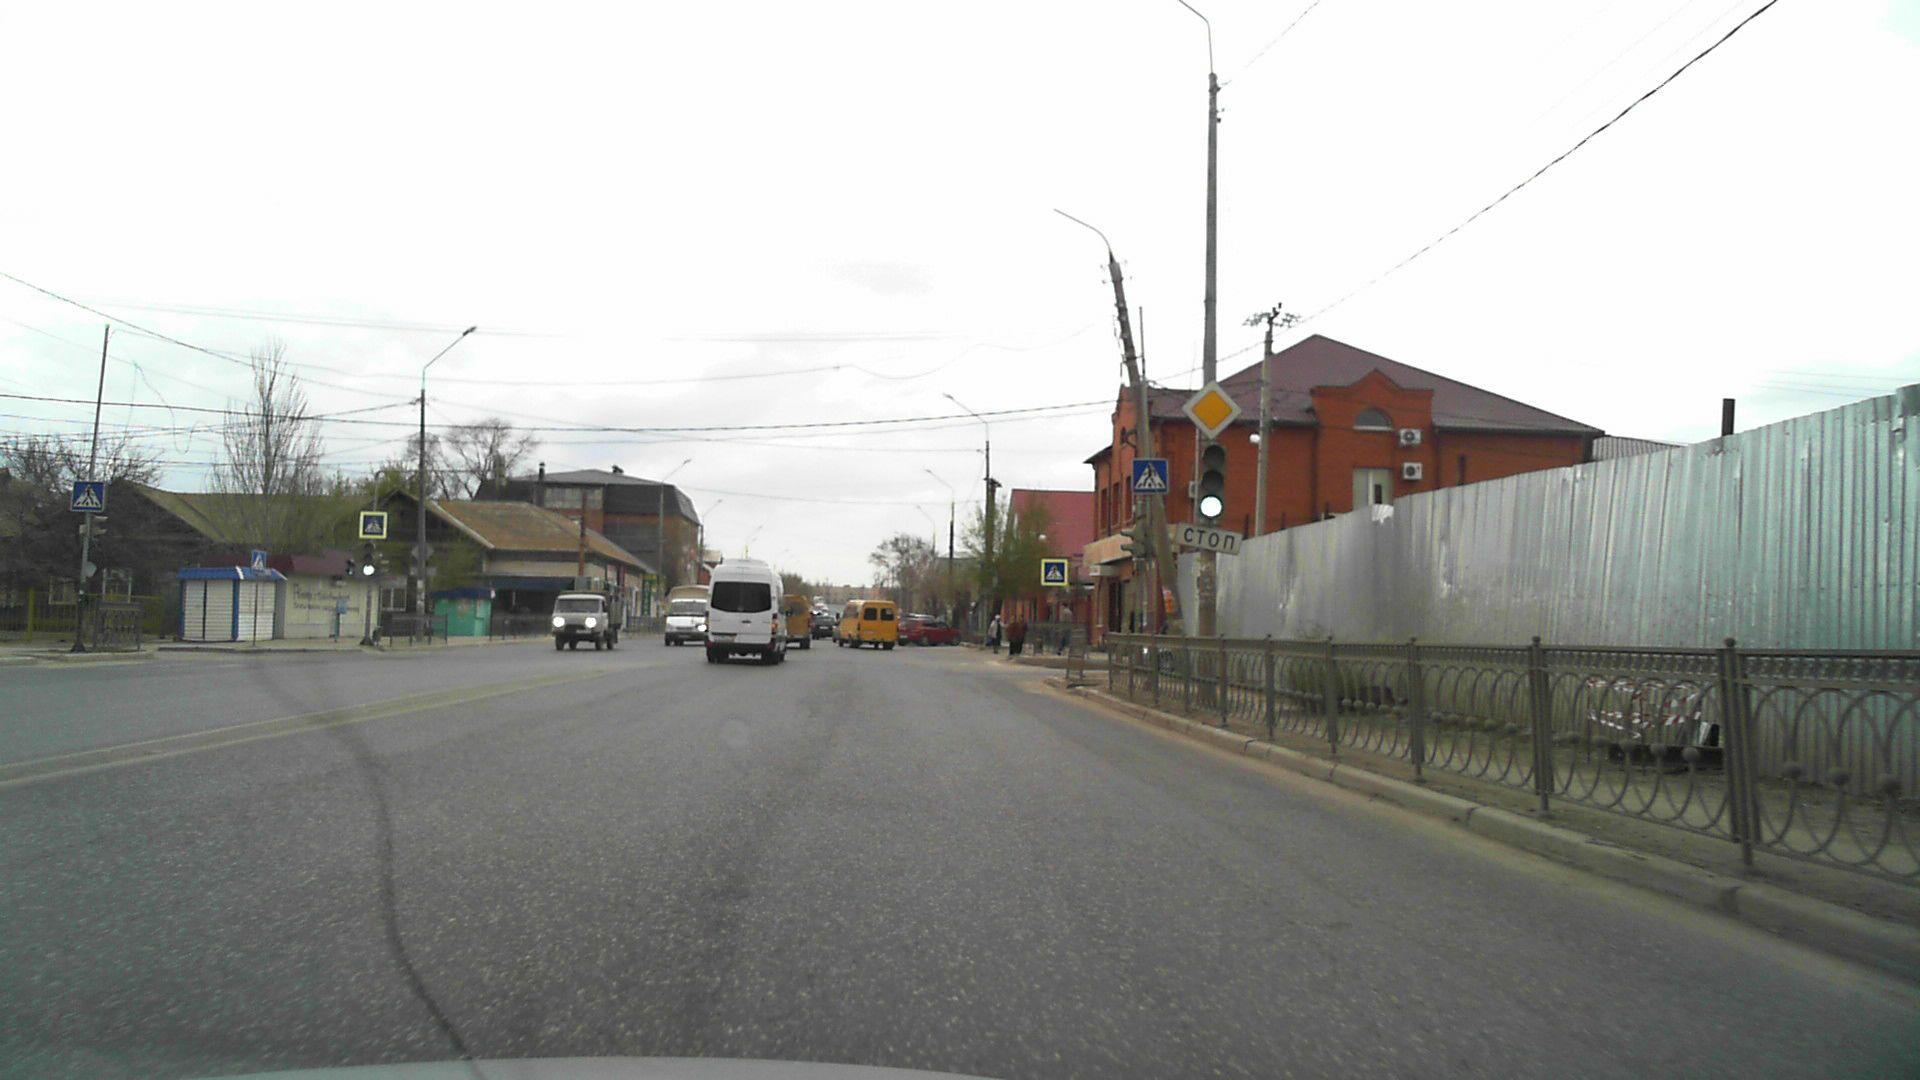2_1: (1179, 378, 1244, 438)
5_19_1: (1134, 459, 1170, 492), (1046, 560, 1067, 582), (252, 550, 264, 571)
5_19_2: (73, 481, 104, 512), (363, 516, 382, 534)
6_16: (1174, 522, 1244, 553)
